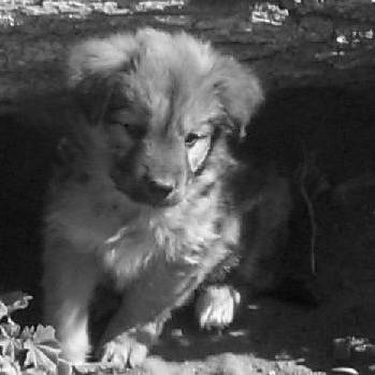dog: (32, 23, 298, 373), (240, 76, 372, 214)
